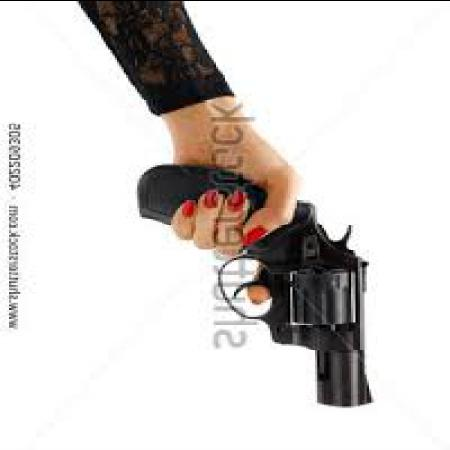Pistol: (132, 162, 380, 414)
